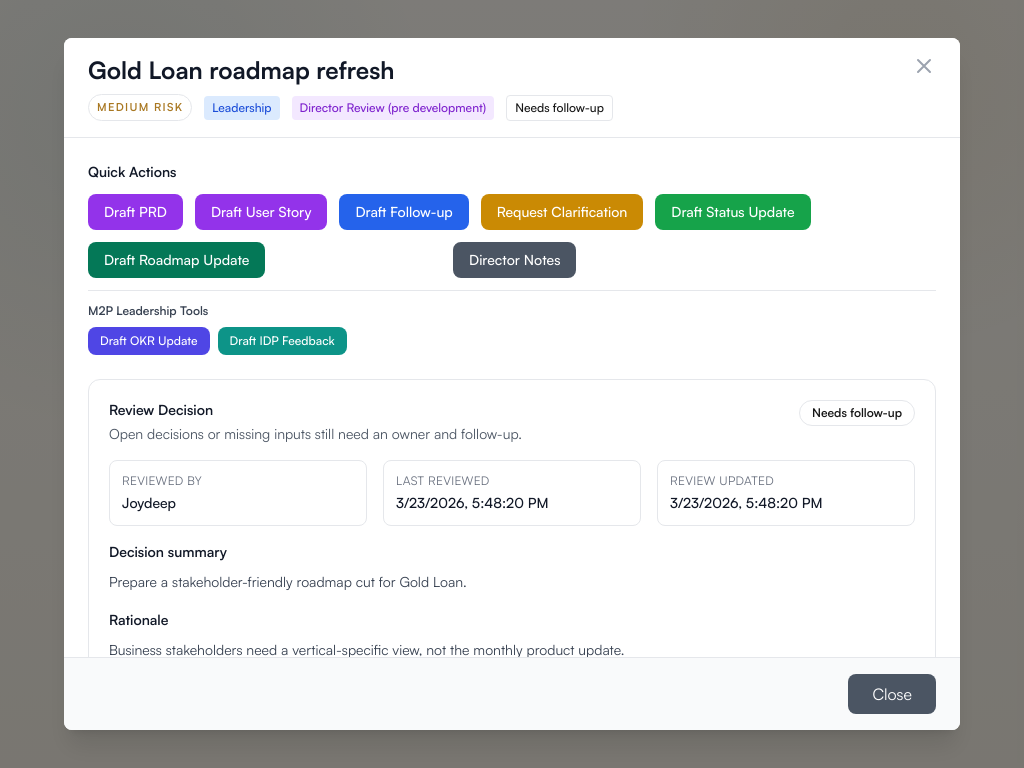
it: roadmap artifact drafting UI › exposes roadmap update and roadmap deck drafting actions
Click the button "Draft Roadmap Update" at (177, 260), box [88,242,265,278]
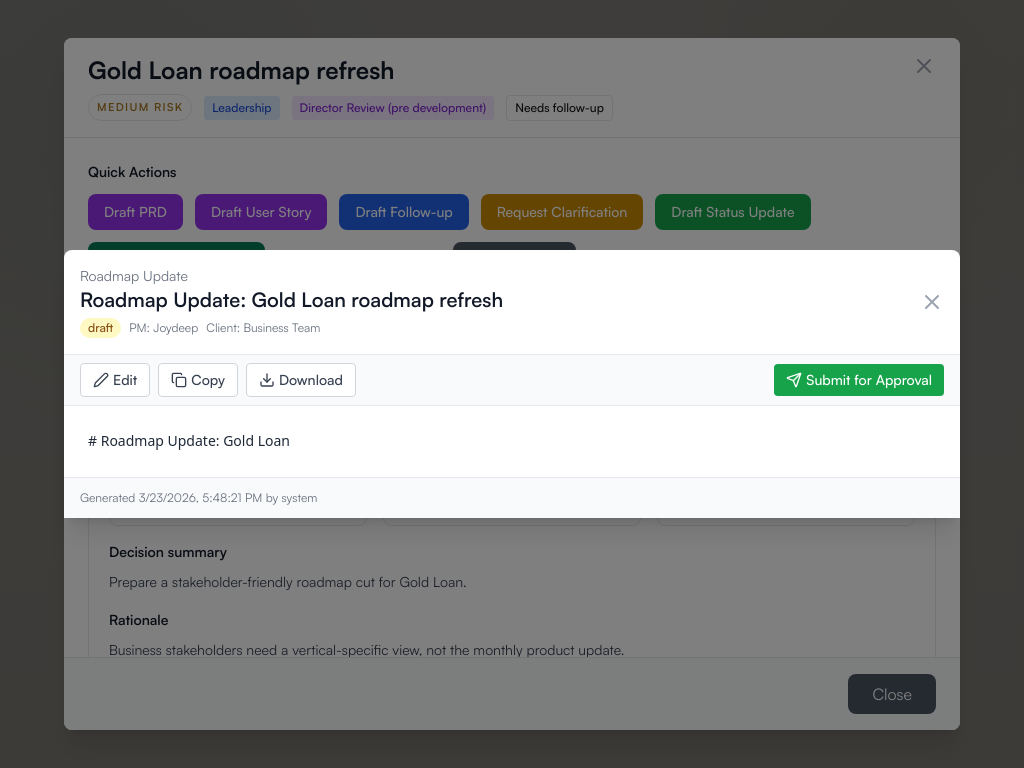
Expected: the heading "Roadmap Update: Gold Loan roadmap refresh" is shown, [80,286,503,314]
